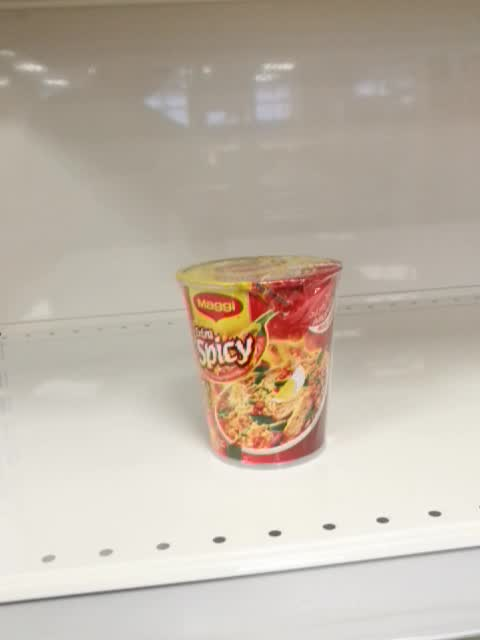maggi: (174, 254, 343, 470)
